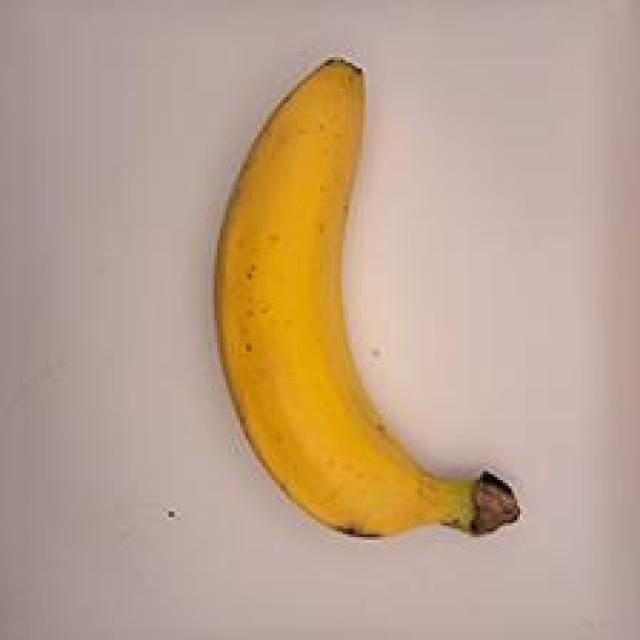Ripe: (186, 38, 549, 574)
